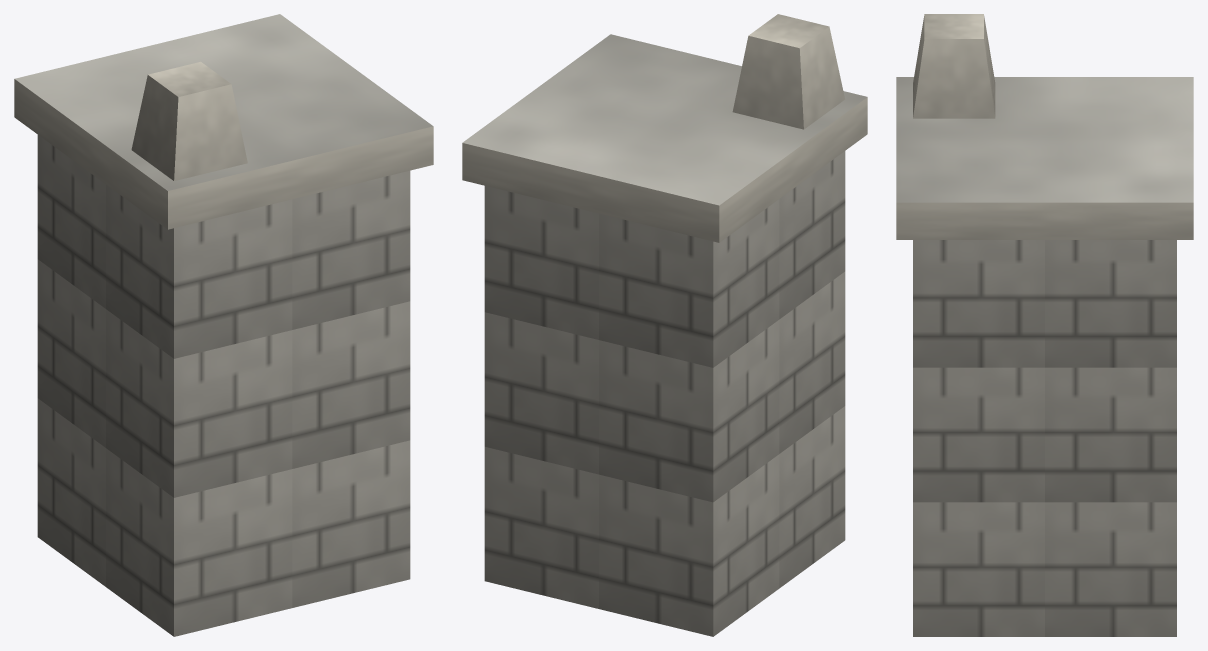
File: dock_quay_corner_01.glb
3 views of the same model, side by side, from view 1: azimuth 30°, elevation 25°; view 2: azimuth 150°, elevation 25°; view 3: azimuth 270°, elevation 25° (orthographic). The views are drawn at different scales.
Visible parts, largest first — view 1: dock_quay_corner_01; view 2: dock_quay_corner_01; view 3: dock_quay_corner_01.
Boxes of the visible parts, left/top/right/bottom form: dock_quay_corner_01: left=14, top=14, right=433, bottom=636; dock_quay_corner_01: left=462, top=14, right=867, bottom=636; dock_quay_corner_01: left=896, top=14, right=1193, bottom=636.
Size of the model in its own units: 1.8 by 3.45 by 1.8.
Materials: 1 (1 with a texture image).
